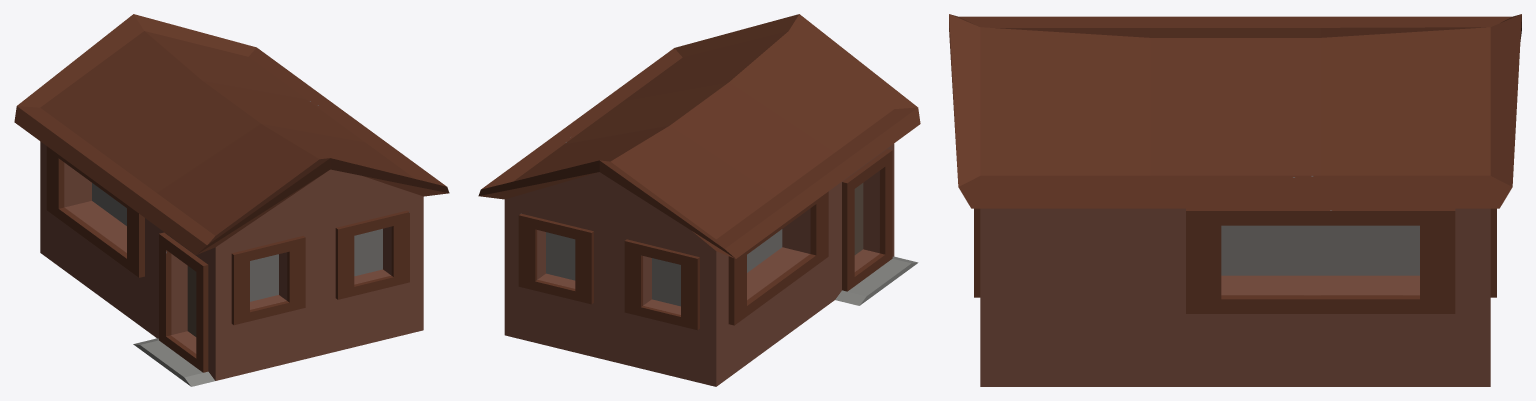
File: Shack.fbx
3 views of the same model, side by side, from view 1: azimuth 30°, elevation 25°; view 2: azimuth 150°, elevation 25°; view 3: azimuth 270°, elevation 25° (orthographic). The views are drawn at different scales.
Parts seen in each view (by area): view 1: Cube; view 2: Cube; view 3: Cube.
Part boxes in pixels (bbox=[...]): Cube: bbox=[14, 14, 449, 386]; Cube: bbox=[478, 14, 920, 386]; Cube: bbox=[949, 14, 1521, 386].
Bounding box in the file's own units: 976 × 751 × 1304.
1 material, 1 textured.
